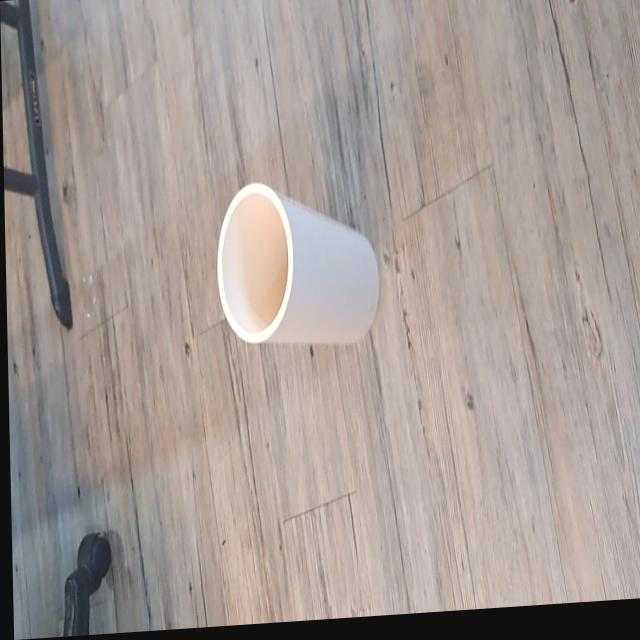CORAL: (202, 144, 392, 395)
